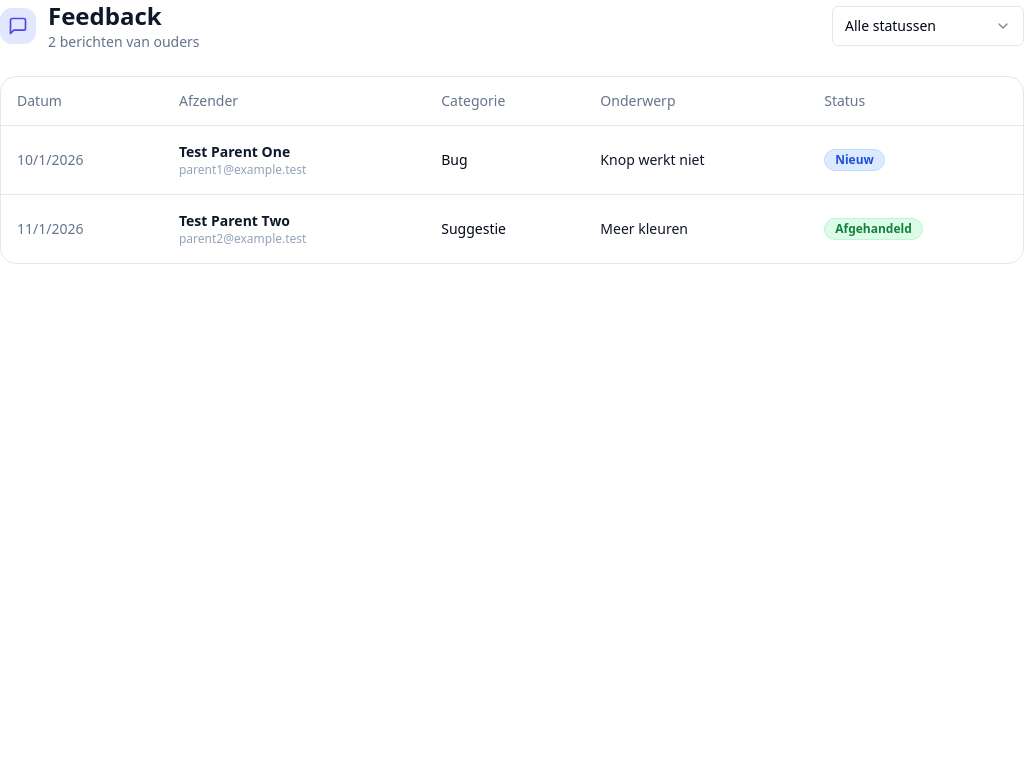
Test: AdminFeedback › opens the detail dialog on row click and saves the updated status via the mutation
Click the text "Knop werkt niet" at (696, 160), box x1=584 y1=125 x2=808 y2=194
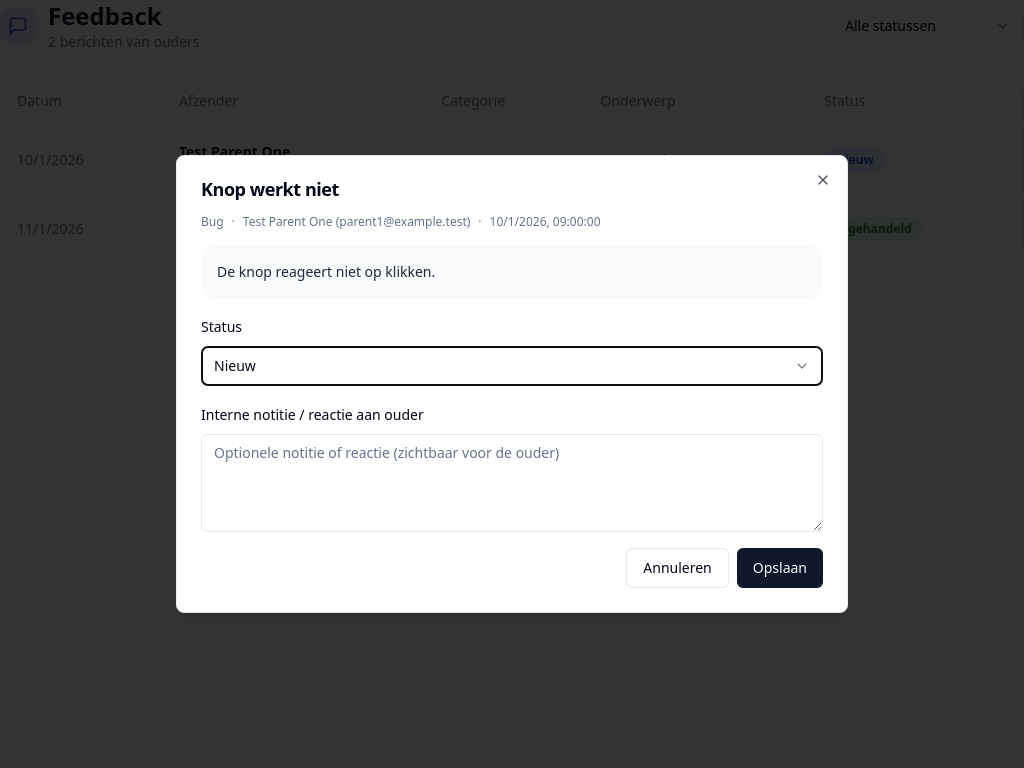
Expected: the text "De knop reageert niet op klikken." is shown, x1=201 y1=246 x2=823 y2=298
Click the button "Opslaan" at (780, 568), box x1=737 y1=548 x2=823 y2=588
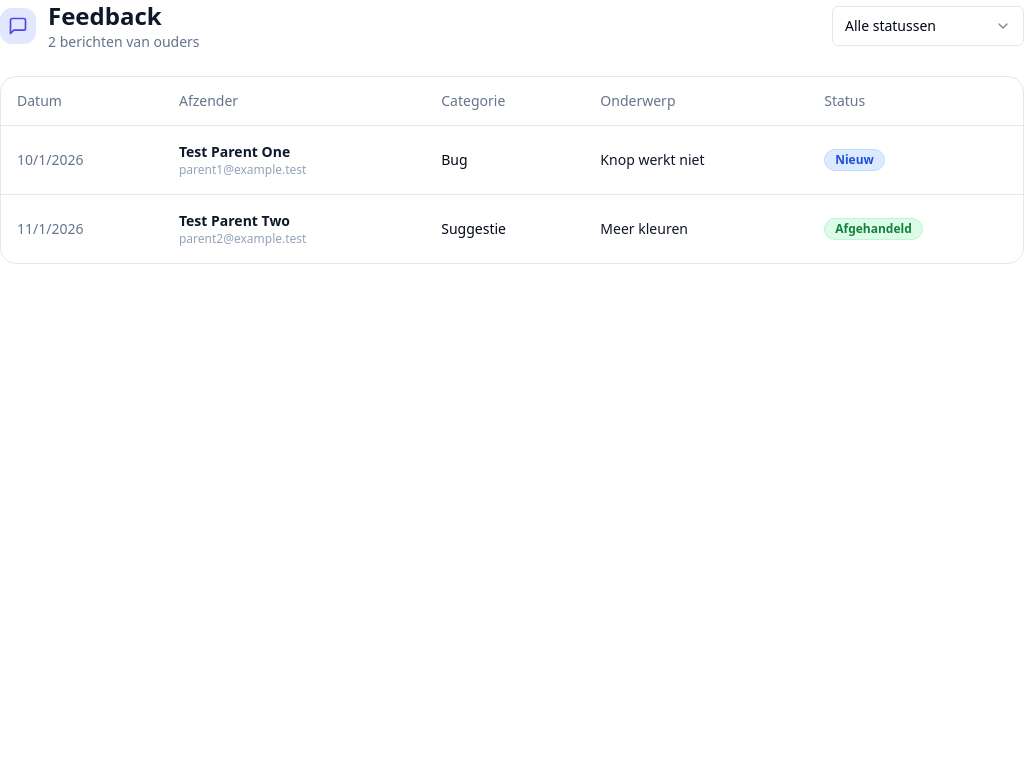
Expected: the text "De knop reageert niet op klikken." is gone
